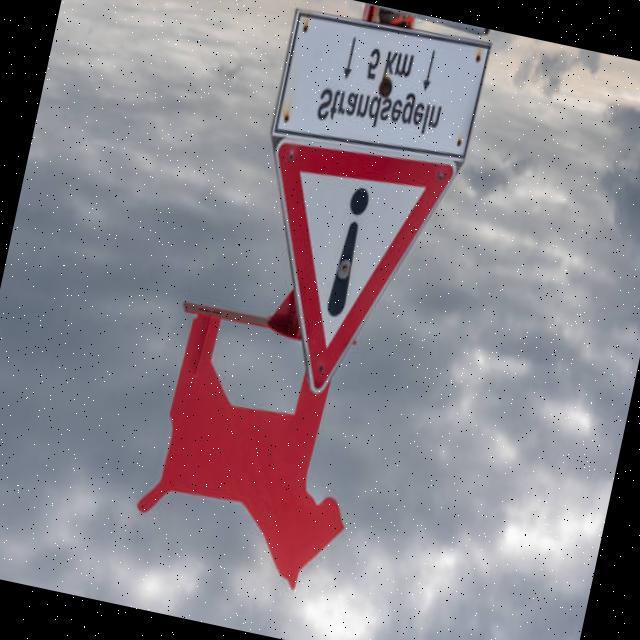warning: (220, 116, 470, 429)
